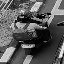mobil: (8, 3, 57, 55)
